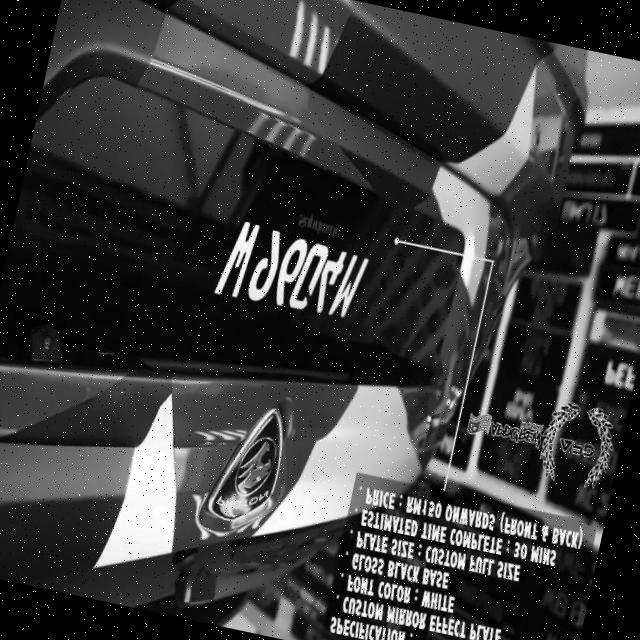License_Plate: (1, 55, 487, 457), (546, 180, 640, 250), (487, 372, 560, 442), (575, 338, 640, 403), (591, 251, 640, 319)
